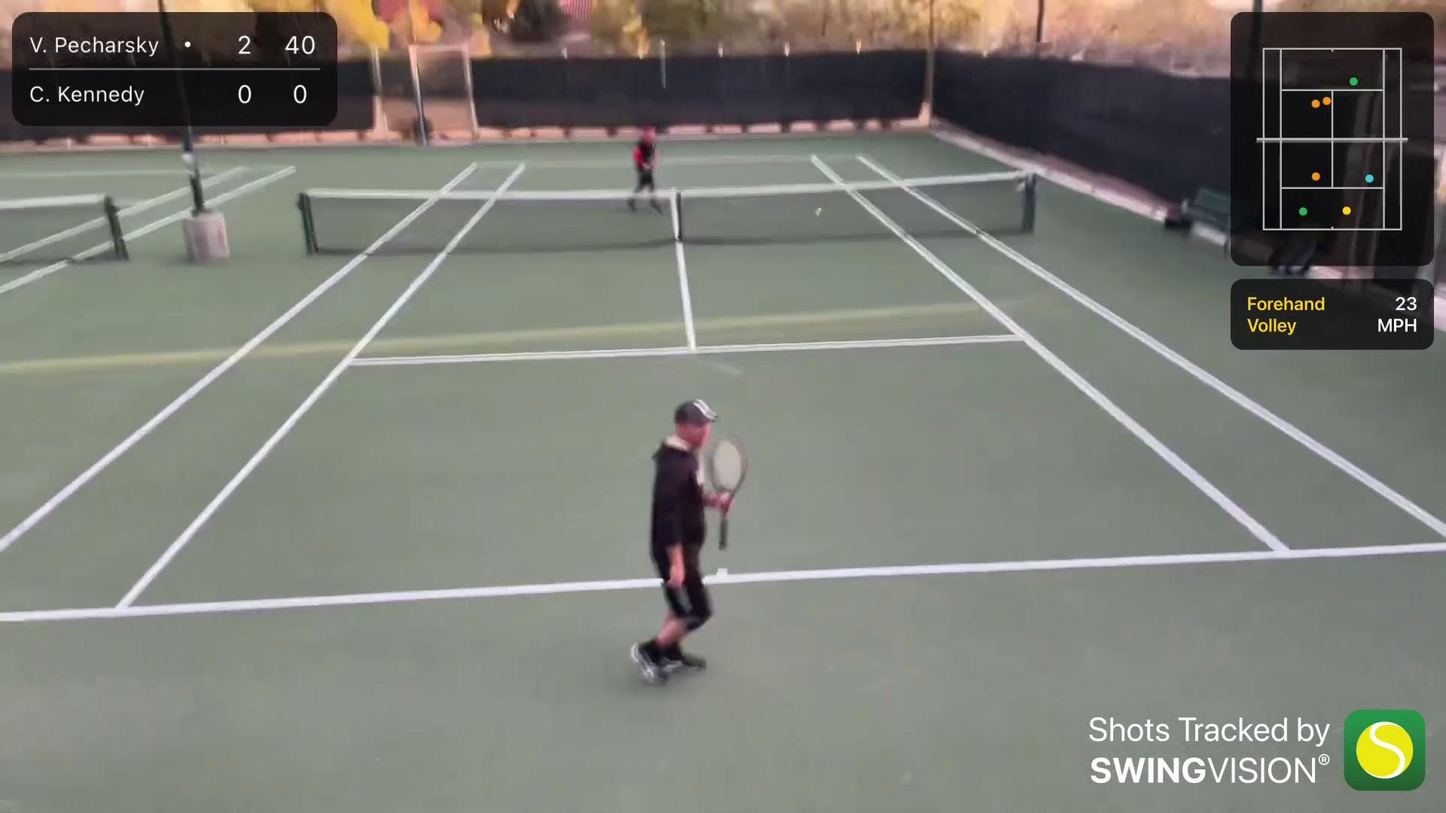ball: (813, 207, 823, 218)
